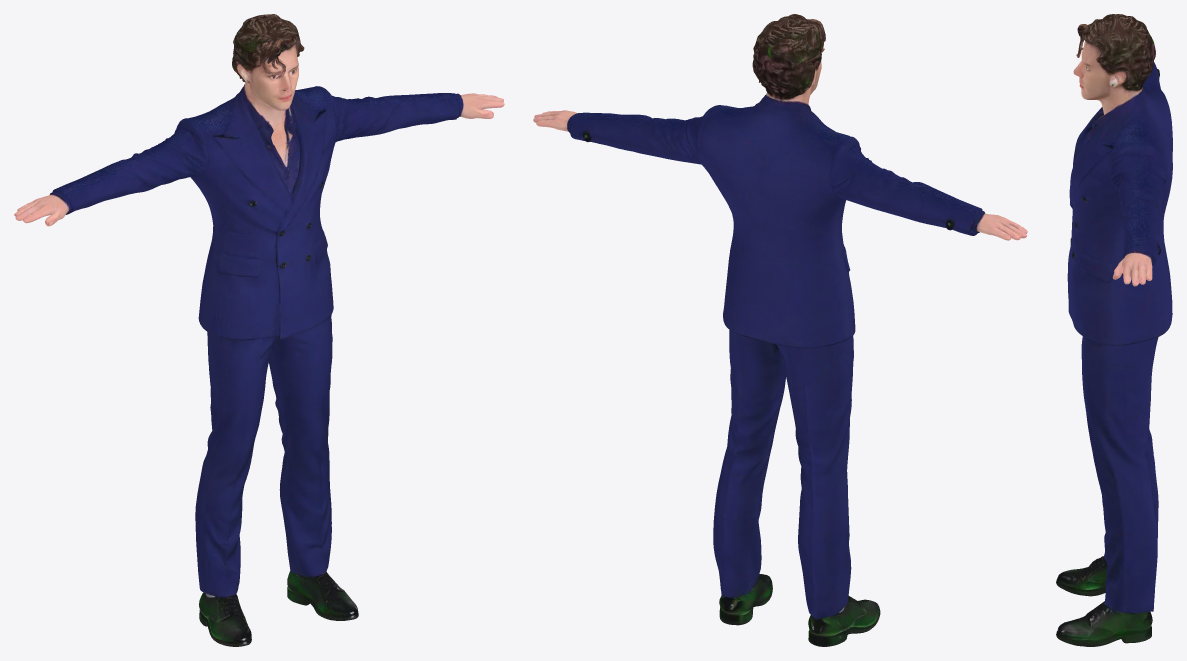
The picture shows the model from 3 angles, left to right: view 1: azimuth 30°, elevation 25°; view 2: azimuth 150°, elevation 25°; view 3: azimuth 270°, elevation 25°; orthographic projection.
Visible parts, largest first — view 1: mesh_node; view 2: mesh_node; view 3: mesh_node.
Part boxes in pixels (x1=…): mesh_node: x1=14, y1=14, x2=504, y2=646; mesh_node: x1=533, y1=14, x2=1027, y2=646; mesh_node: x1=1056, y1=14, x2=1172, y2=646.
Bounding box in the file's own units: 1.62 × 1.9 × 0.3375.
1 material, 1 textured.
